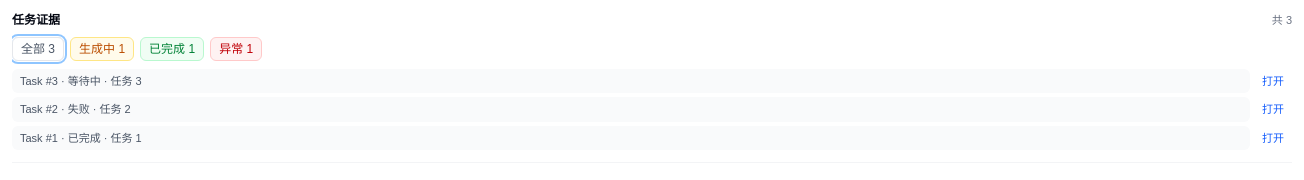
Test: ProductionCanvasGraph › filters task evidence rows from the status summary pills
This screenshot has width=1304, height=180.
Click the button with aria-label "筛选异常任务". click: point(236, 48)
box: [210,36,262,60]
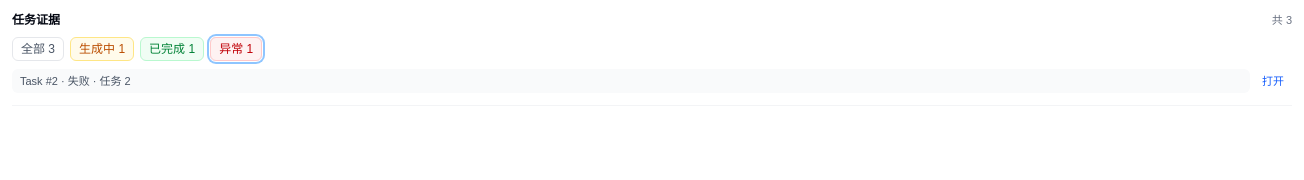
Check: the text "Task #2 · 失败 · 任务 2" is shown, box [20,74,131,86]
Check: the button "Task #1 · 已完成 · 任务 1" is gone
Check: the button "Task #3 · 等待中 · 任务 3" is gone
Click the button with aria-label "筛选全部任务". click: point(38, 48)
box: [12,36,64,60]
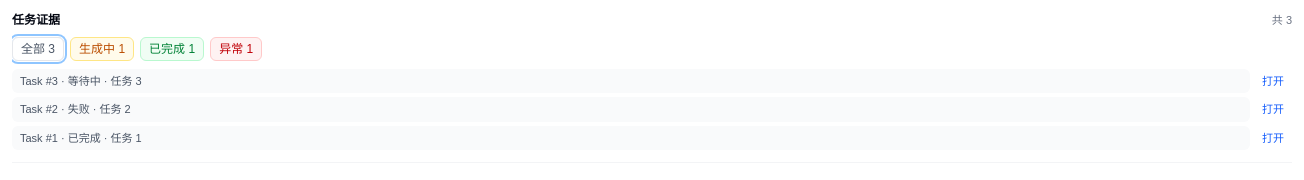
Check: the text "Task #1 · 已完成 · 任务 1" is shown, box [20,132,142,144]
Check: the text "Task #3 · 等待中 · 任务 3" is shown, box [20,74,142,86]
